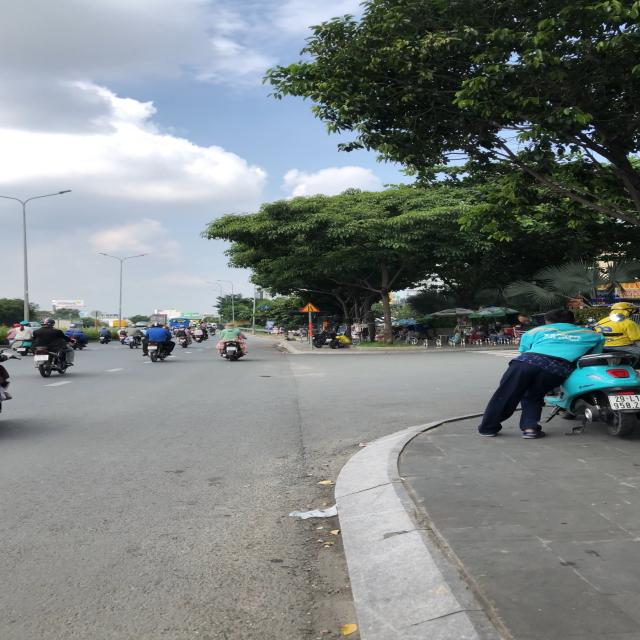Bien bao duong bi thu hep: (300, 302, 320, 312)
